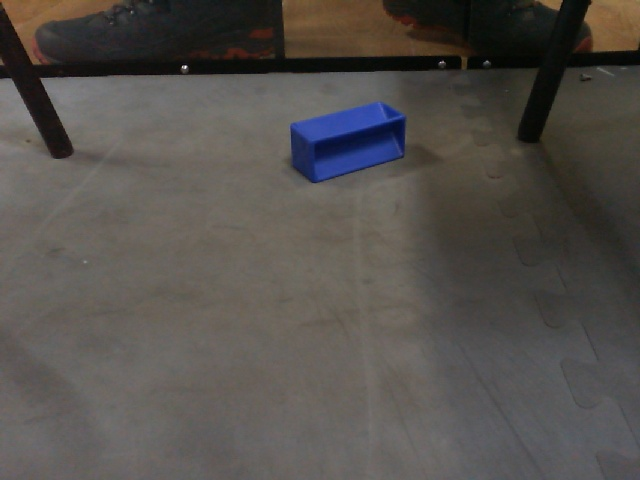BlueSample: (286, 101, 409, 185)
